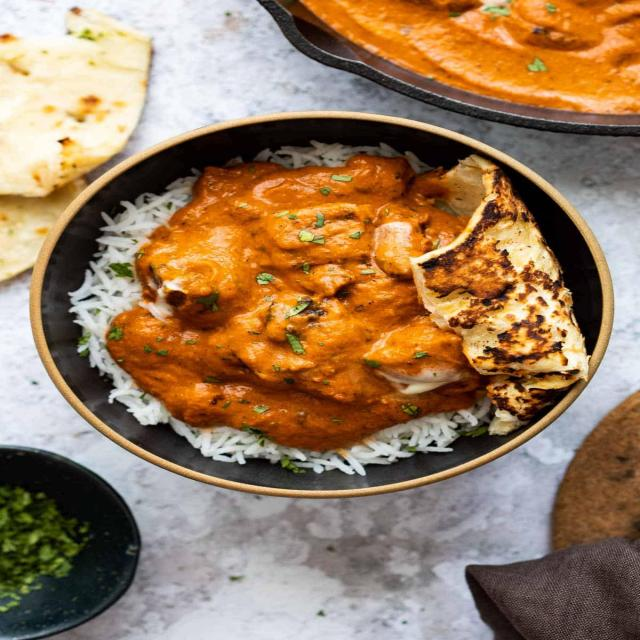chicken: (152, 170, 509, 446), (346, 2, 640, 106)
roti: (14, 17, 126, 255)
